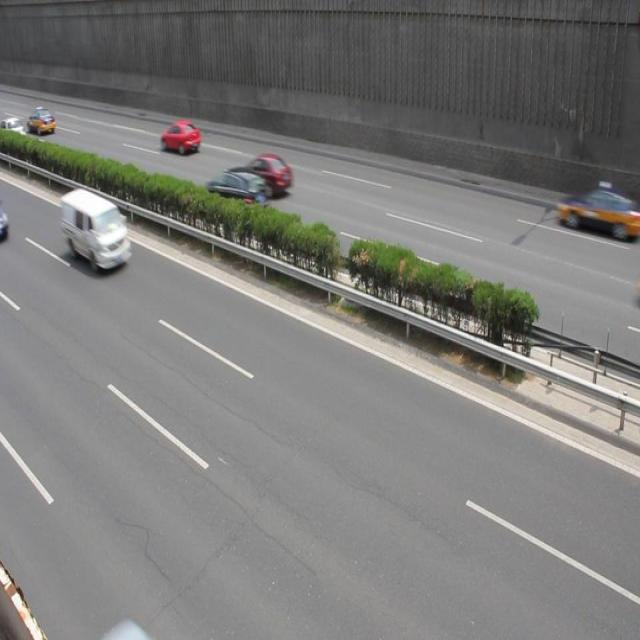car: (555, 180, 632, 242), (202, 166, 268, 218), (242, 154, 292, 198), (161, 121, 200, 154), (28, 108, 56, 136)
truck: (61, 187, 130, 274)
